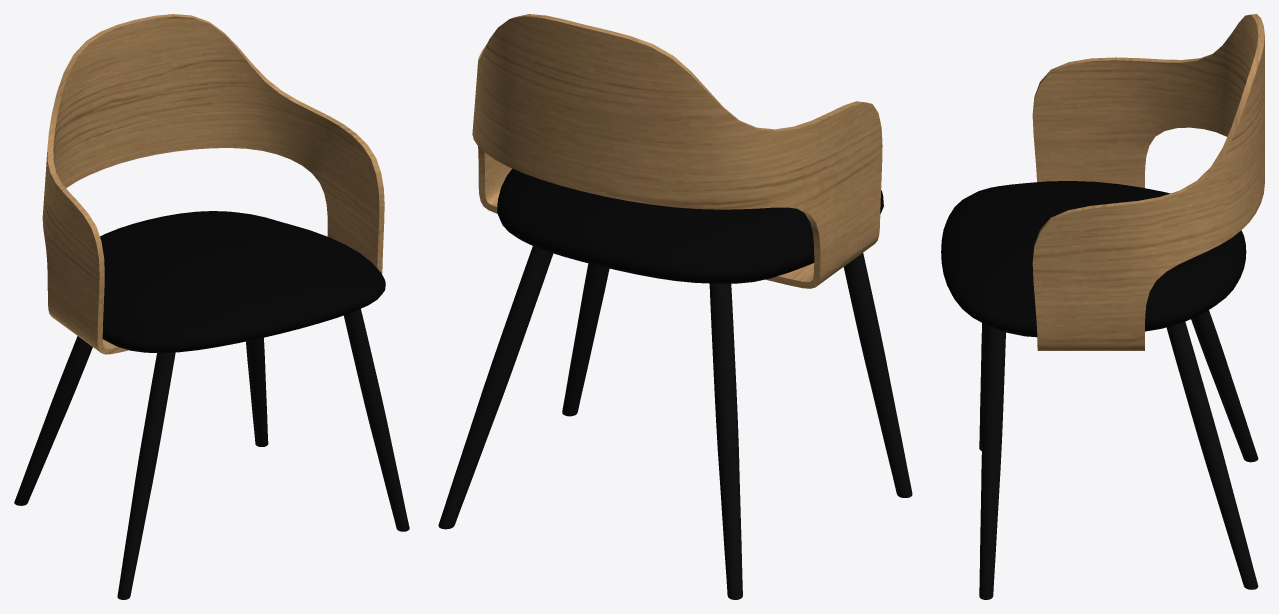
3 views of the same model, side by side, from view 1: azimuth 30°, elevation 25°; view 2: azimuth 150°, elevation 25°; view 3: azimuth 270°, elevation 25° (orthographic). The views are drawn at different scales.
Parts seen in each view (by area): view 1: Object_233, Object_234, Object_235; view 2: Object_233, Object_234, Object_235; view 3: Object_233, Object_234, Object_235.
Part boxes in pixels (left/top/right/bottom): Object_233: left=42, top=14, right=384, bottom=354; Object_234: left=100, top=211, right=385, bottom=353; Object_235: left=14, top=309, right=409, bottom=599; Object_233: left=472, top=14, right=882, bottom=288; Object_234: left=497, top=168, right=883, bottom=283; Object_235: left=438, top=246, right=912, bottom=599; Object_233: left=1032, top=14, right=1264, bottom=350; Object_234: left=941, top=181, right=1246, bottom=337; Object_235: left=979, top=310, right=1258, bottom=599.
Bounding box in the file's own units: 0.5578 × 0.8255 × 0.4965.
3 materials, 1 textured.
